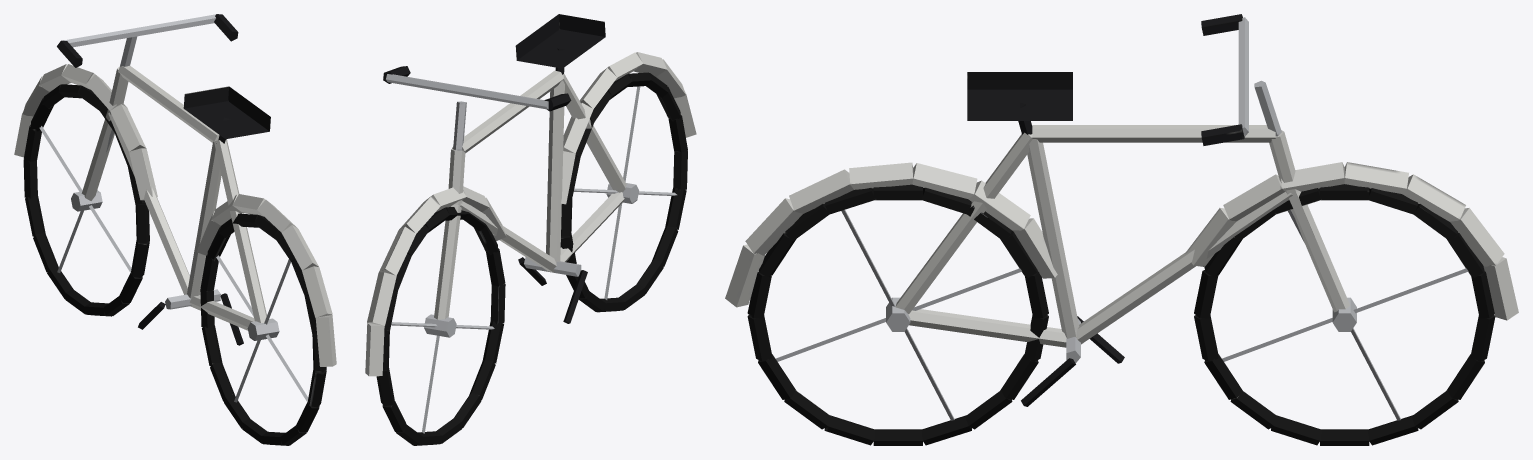
File: kolo_6a2b2b03.glb
The picture shows the model from 3 angles, left to right: view 1: azimuth 30°, elevation 25°; view 2: azimuth 150°, elevation 25°; view 3: azimuth 270°, elevation 25°; orthographic projection. The views are drawn at different scales.
Visible parts, largest first — view 1: dum; view 2: dum; view 3: dum.
Boxes of the visible parts, x1,y1,x2,y2 form: dum: (14,14,336,445); dum: (365,14,696,445); dum: (725,14,1518,445).
Size of the model in its own units: 0.5947 by 1.07 by 1.95.
Materials: 1 (1 with a texture image).
